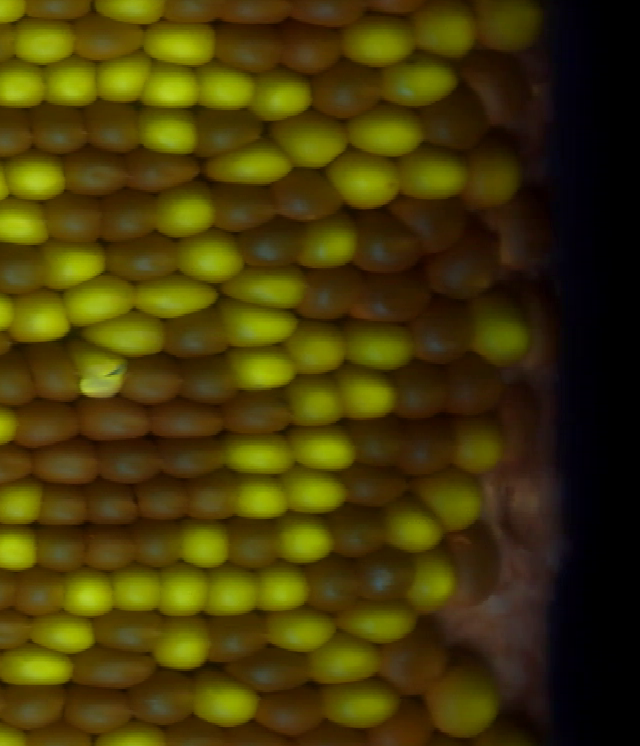fluorescent: (421, 667, 503, 745), (322, 145, 407, 218), (268, 109, 359, 177), (308, 674, 414, 732), (416, 463, 494, 540), (463, 127, 524, 224), (344, 99, 434, 164), (379, 53, 466, 118), (394, 142, 469, 215), (464, 295, 537, 368), (171, 223, 258, 284), (342, 319, 429, 377), (84, 308, 181, 359), (379, 488, 448, 559), (409, 1, 479, 67), (206, 139, 302, 187), (137, 272, 223, 325), (144, 13, 219, 73), (281, 460, 351, 524), (67, 340, 136, 404), (221, 300, 309, 350), (189, 674, 267, 729), (287, 317, 351, 384), (332, 364, 403, 424), (221, 423, 297, 479), (264, 604, 344, 657), (36, 238, 113, 293), (192, 55, 258, 119), (251, 65, 321, 125), (149, 625, 234, 674), (334, 600, 426, 645), (306, 630, 384, 683), (341, 13, 416, 68), (7, 288, 74, 349), (59, 280, 143, 328), (222, 344, 306, 392), (4, 145, 69, 207), (279, 374, 352, 429), (224, 265, 313, 310), (152, 559, 214, 623), (228, 469, 296, 527), (249, 557, 313, 618), (297, 213, 361, 274), (404, 559, 464, 624), (57, 564, 124, 622), (28, 607, 104, 658), (479, 3, 553, 55), (0, 643, 78, 692), (203, 558, 266, 618), (447, 412, 506, 475), (39, 52, 98, 112), (137, 110, 207, 159), (11, 15, 74, 68), (176, 509, 229, 572), (93, 49, 152, 105), (106, 562, 164, 618), (136, 67, 203, 113), (273, 518, 338, 564), (0, 198, 56, 249), (0, 523, 46, 578), (0, 57, 48, 109), (91, 4, 179, 32), (0, 477, 52, 524), (0, 1, 33, 32)
nonfluorescent: (444, 524, 503, 613), (471, 53, 537, 130), (393, 187, 471, 252), (378, 628, 448, 699), (71, 639, 164, 692), (429, 234, 501, 302), (229, 645, 322, 697), (489, 197, 547, 279), (267, 169, 353, 224), (189, 104, 269, 163), (29, 335, 92, 409), (308, 60, 381, 123), (249, 681, 329, 738), (357, 215, 424, 282), (11, 562, 77, 630), (424, 88, 489, 157), (27, 97, 93, 164), (391, 410, 453, 480), (361, 267, 437, 324), (118, 350, 186, 413), (151, 399, 236, 448), (62, 148, 139, 202), (83, 98, 151, 159), (226, 394, 316, 440), (8, 400, 87, 452), (77, 399, 162, 447), (87, 609, 175, 655), (42, 189, 104, 253), (96, 435, 168, 490), (60, 680, 132, 735), (449, 357, 509, 422), (351, 553, 423, 607), (129, 667, 190, 730), (298, 557, 362, 617), (74, 8, 144, 62), (222, 515, 287, 573), (104, 234, 182, 282), (162, 308, 234, 360), (99, 185, 163, 243), (1, 681, 72, 733), (239, 217, 306, 272), (187, 474, 249, 533), (328, 508, 394, 563), (201, 612, 270, 664), (177, 352, 241, 408), (31, 438, 101, 489), (213, 180, 279, 234), (132, 143, 209, 189), (304, 265, 363, 325), (156, 438, 232, 484), (398, 364, 452, 427), (422, 310, 479, 368), (32, 519, 88, 578), (82, 522, 141, 578), (277, 23, 341, 73), (131, 477, 193, 527), (0, 242, 58, 294), (216, 27, 281, 73), (365, 709, 443, 746), (132, 524, 189, 574), (36, 482, 96, 529), (82, 485, 146, 529), (0, 99, 38, 162), (344, 469, 404, 508), (0, 357, 42, 412), (344, 423, 397, 464), (0, 442, 34, 490), (0, 611, 38, 650)
